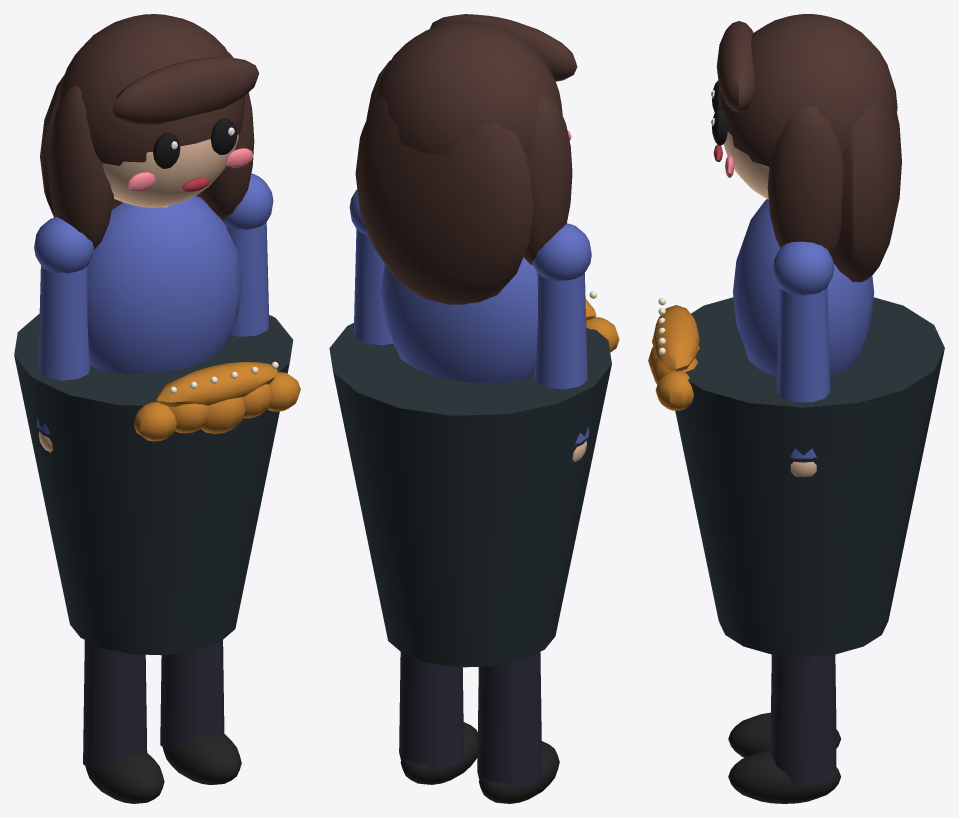
Rendered from shabbos_challah.glb.
3 views of the same model, side by side, from view 1: azimuth 30°, elevation 25°; view 2: azimuth 150°, elevation 25°; view 3: azimuth 270°, elevation 25° (orthographic).
Visible parts, largest first — view 1: Body, Leg_R, Leg_L, ShabbosChallahExtra, Arm_R, Arm_L; view 2: Body, Leg_R, Leg_L, Arm_R, Arm_L, ShabbosChallahExtra; view 3: Body, Leg_L, Arm_L, ShabbosChallahExtra, Leg_R.
Part boxes in pixels (x1,y1,x2,y2): Body: [14, 14, 293, 655]; Leg_R: [83, 640, 164, 803]; Leg_L: [160, 640, 241, 784]; ShabbosChallahExtra: [133, 361, 300, 441]; Arm_R: [34, 217, 93, 452]; Arm_L: [223, 173, 273, 336]; Body: [329, 14, 611, 667]; Leg_R: [477, 652, 559, 803]; Leg_L: [399, 652, 477, 784]; Arm_R: [532, 223, 591, 461]; Arm_L: [349, 189, 393, 345]; ShabbosChallahExtra: [585, 291, 619, 352]; Body: [675, 14, 944, 656]; Leg_L: [728, 654, 840, 803]; Arm_L: [773, 241, 833, 476]; ShabbosChallahExtra: [648, 298, 699, 410]; Leg_R: [728, 654, 840, 757].
Bounding box in the file's own units: 0.6 × 1.78 × 0.63.
